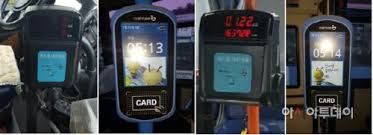terminal: (196, 7, 281, 109)
